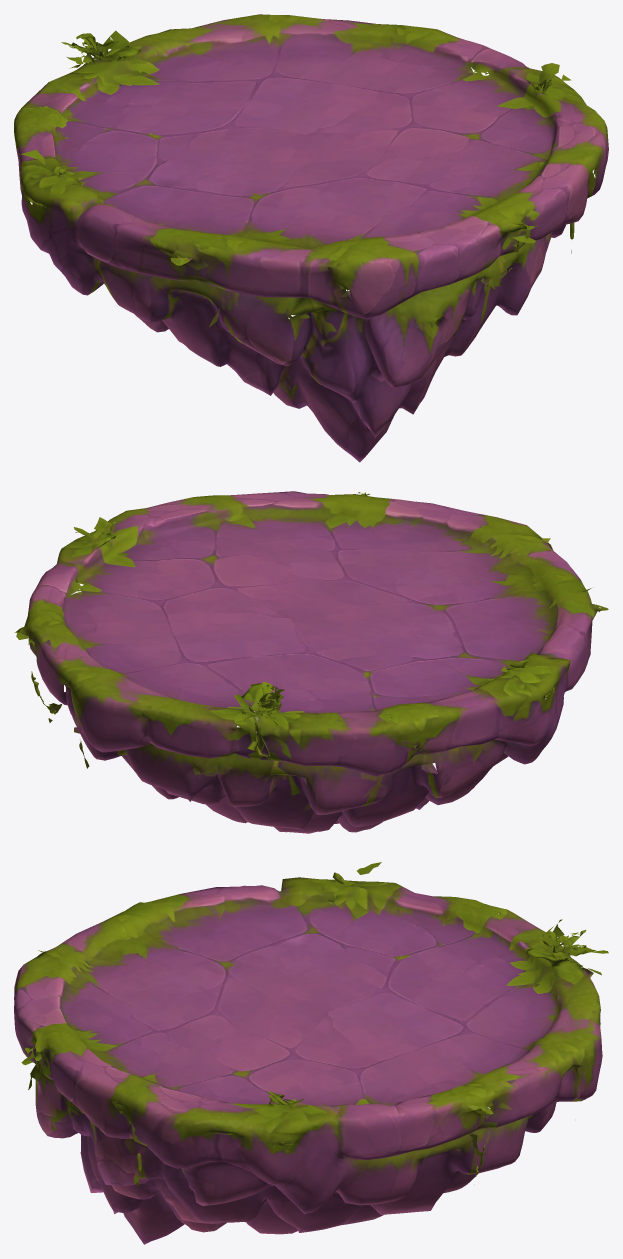
Rendered from ada.glb.
3 renders of one model, top to bottom at view 1: azimuth 30°, elevation 25°; view 2: azimuth 150°, elevation 25°; view 3: azimuth 270°, elevation 25°, orthographic.
Visible parts, largest first — view 1: tripo_node_b2920c87; view 2: tripo_node_b2920c87; view 3: tripo_node_b2920c87.
Boxes of the visible parts, left/top/right/bottom form: tripo_node_b2920c87: left=14, top=14, right=608, bottom=462; tripo_node_b2920c87: left=14, top=491, right=608, bottom=833; tripo_node_b2920c87: left=14, top=862, right=608, bottom=1244.
Bounding box in the file's own units: 0.969 × 0.5254 × 0.9645.
1 material, 1 textured.
